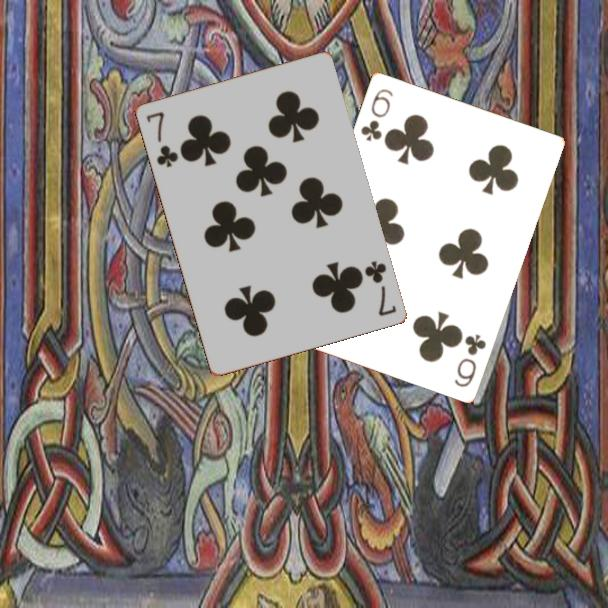c06: (450, 330, 489, 390), (357, 85, 396, 144)
c07: (142, 108, 181, 170), (361, 257, 399, 319)
